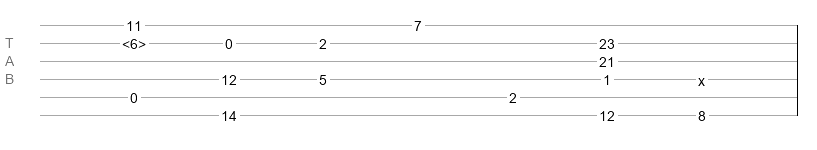0: (130, 90, 138, 100), (225, 36, 233, 46)
1: (603, 72, 611, 82)
11: (126, 18, 142, 28)
12: (221, 72, 237, 82), (599, 108, 615, 118)
14: (221, 108, 237, 118)
2: (319, 36, 327, 46), (509, 90, 517, 100)
21: (599, 54, 615, 64)
23: (599, 36, 615, 46)
5: (319, 72, 327, 82)
7: (414, 18, 422, 28)
8: (698, 108, 706, 118)
harmonic: (122, 36, 146, 46)
x: (698, 73, 705, 81)
